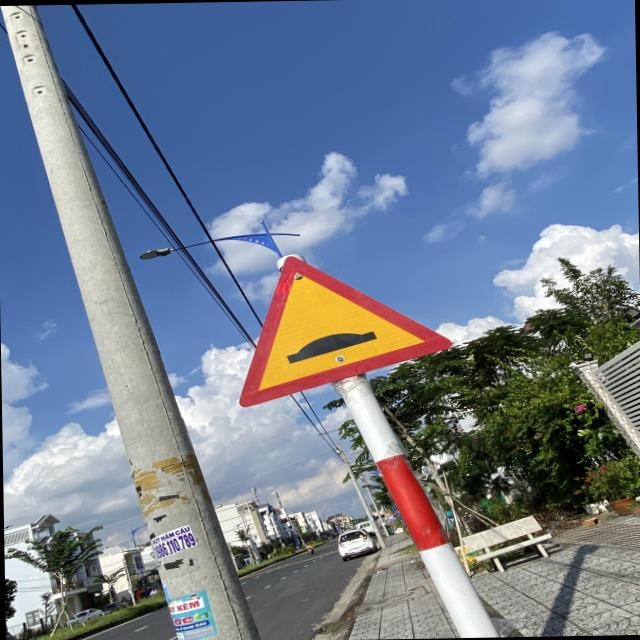Duong_Cong_Ben_Phai: (236, 254, 449, 411)
